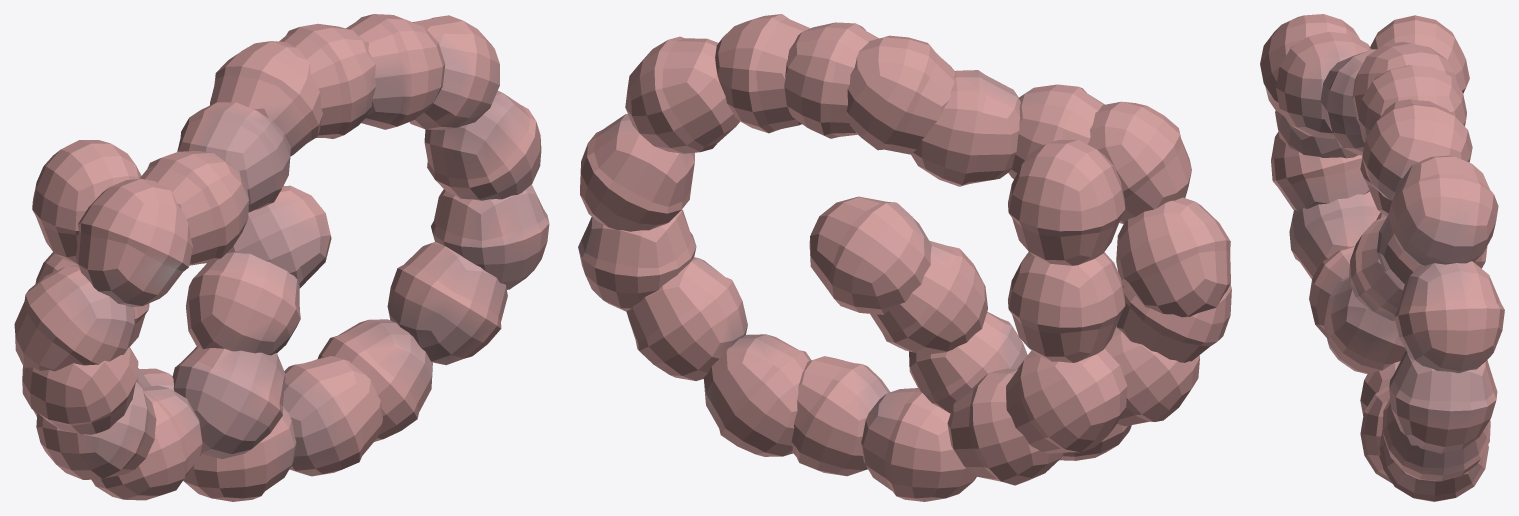
Rendered from intestino.fbx.
3 renders of one model, left to right at view 1: azimuth 30°, elevation 25°; view 2: azimuth 150°, elevation 25°; view 3: azimuth 270°, elevation 25°, orthographic. The views are drawn at different scales.
Parts seen in each view (by area): view 1: Cube.002; view 2: Cube.002; view 3: Cube.002.
Part boxes in pixels (box(x1,y1,x2,y2)): Cube.002: box(14, 14, 549, 501); Cube.002: box(578, 14, 1231, 501); Cube.002: box(1260, 14, 1504, 501).
Bounding box in the file's own units: 51.1 × 37.78 × 20.02.
